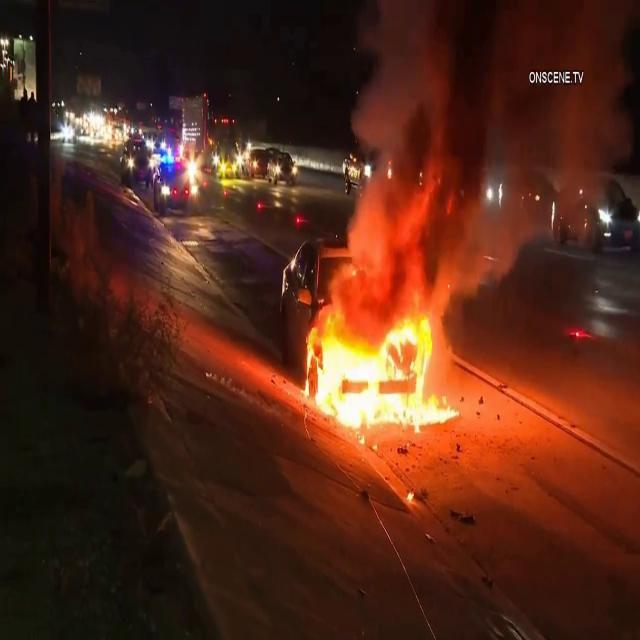Fire: (298, 306, 458, 438)
Smoke: (330, 0, 624, 278)
